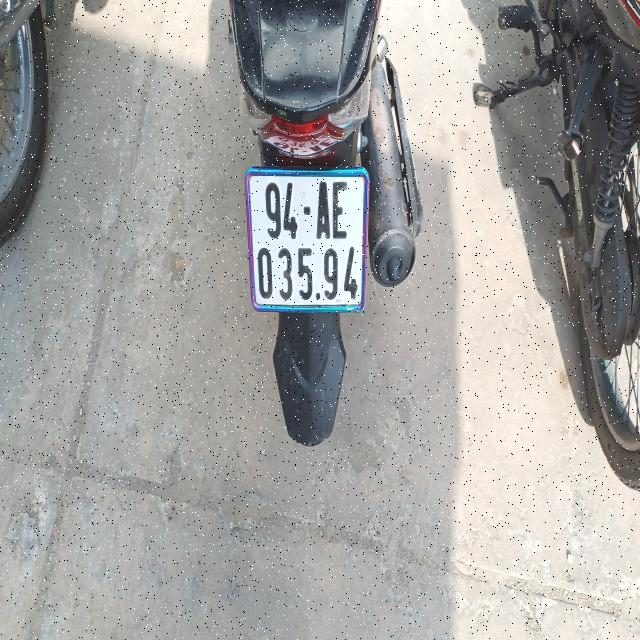0: (258, 245, 274, 299)
3: (279, 246, 293, 304)
4: (343, 247, 359, 305), (283, 181, 298, 242)
5: (296, 248, 315, 300)
9: (265, 179, 281, 241), (324, 248, 339, 301)
A: (316, 181, 331, 242)
E: (332, 179, 348, 242)
